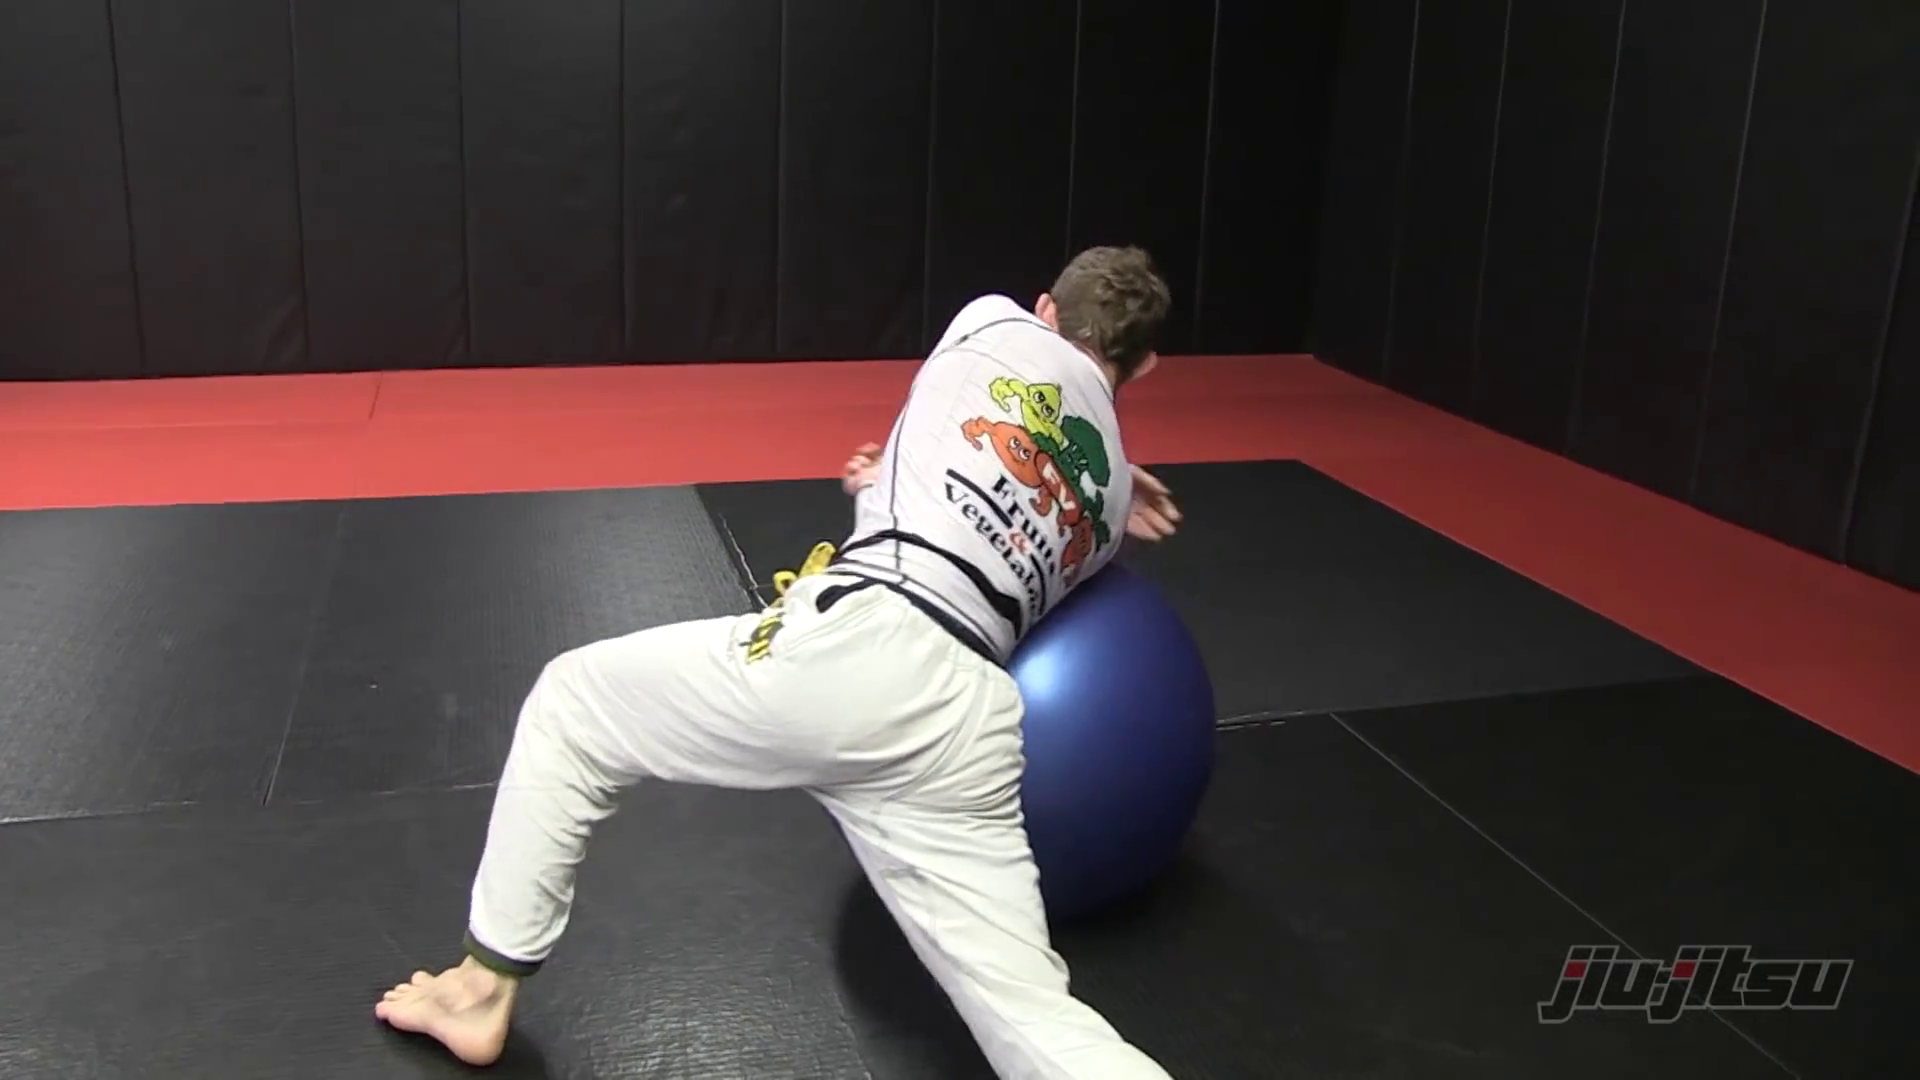yogaball: (876, 543, 1244, 924)
